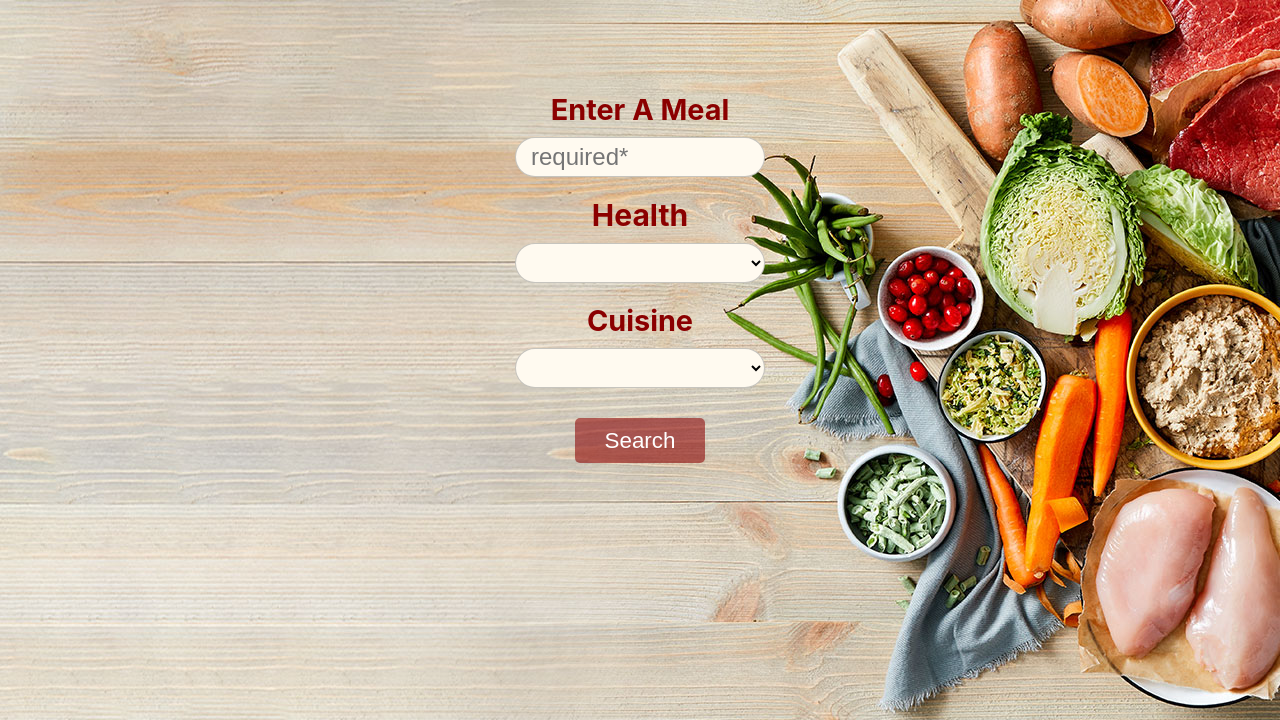
it: <Form /> validation › No results found
This screenshot has width=1280, height=720.
Type "abcdefg" into the field with id "meal" at point(640, 157), box x1=515 y1=137 x2=765 y2=177
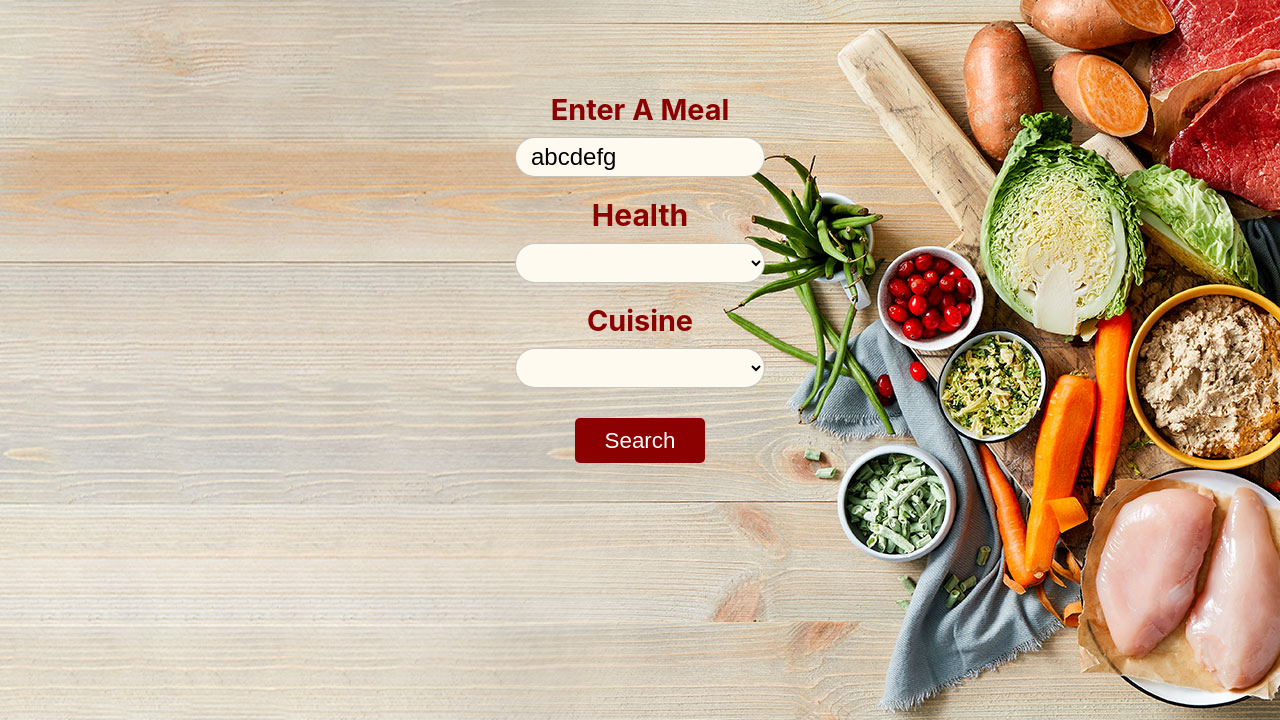
Click the button "search" at point(640, 441), box x1=575 y1=418 x2=705 y2=463
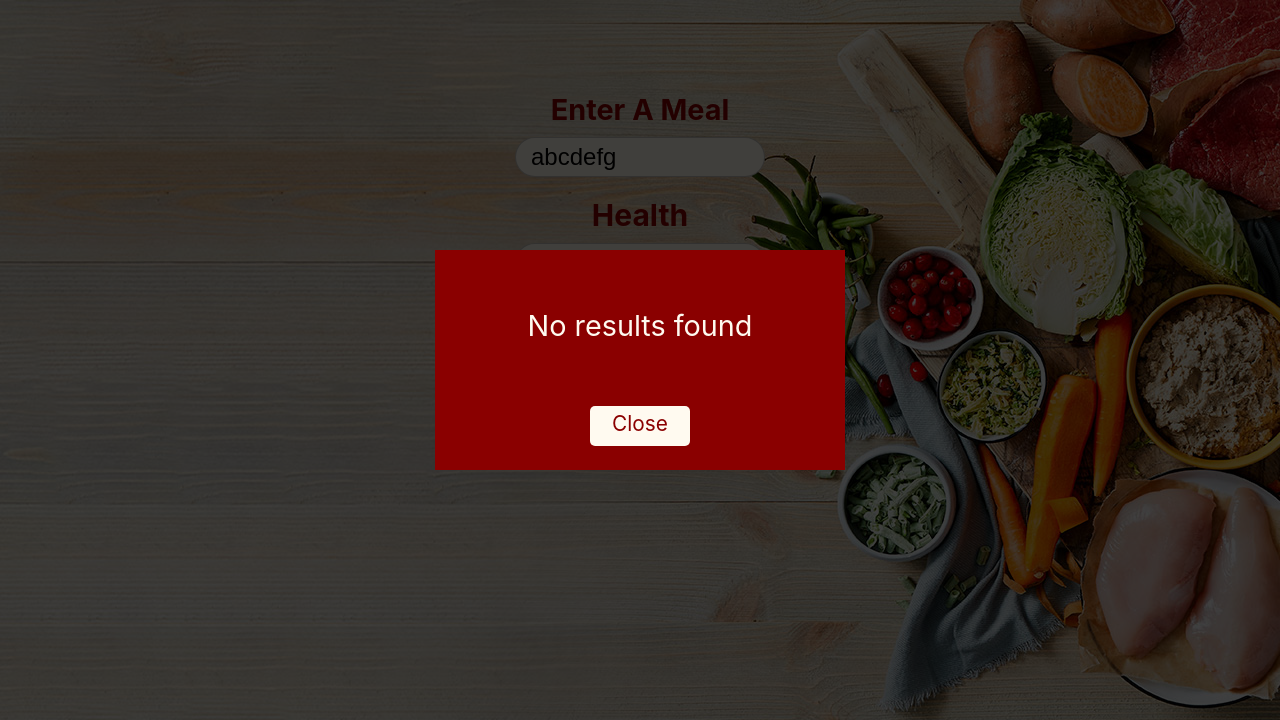
Now the text "No results found" is shown, box x1=522 y1=303 x2=758 y2=348
